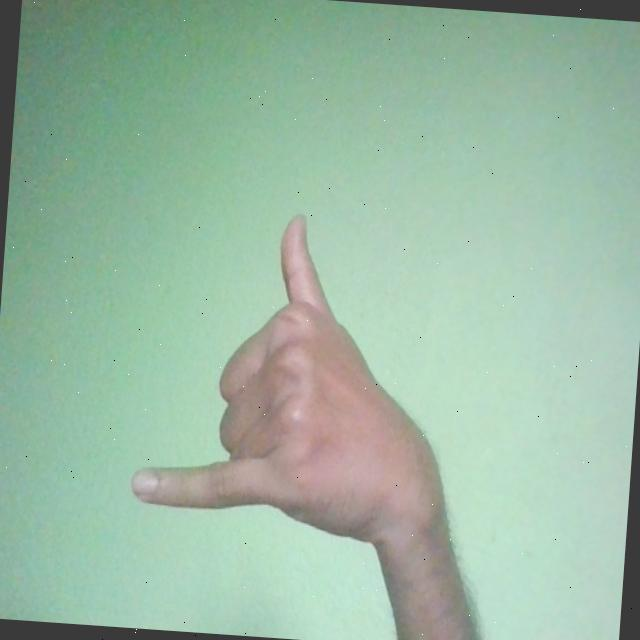Call Me: (127, 202, 464, 548)
